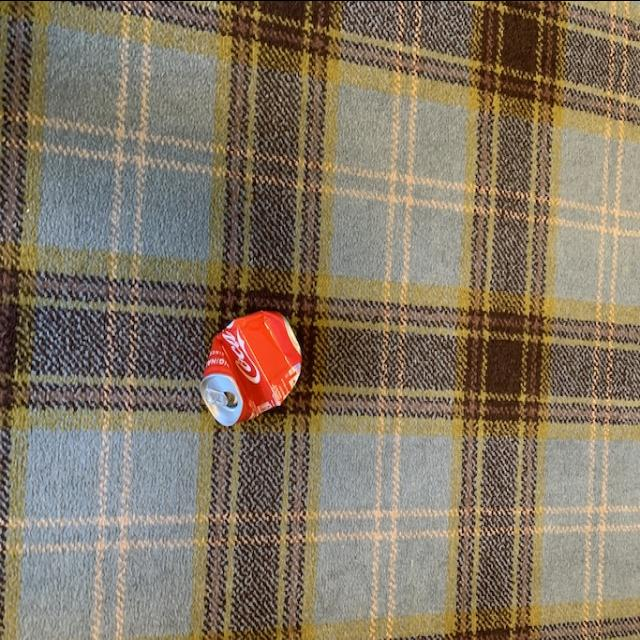Aluminum Can: (200, 305, 302, 425)
